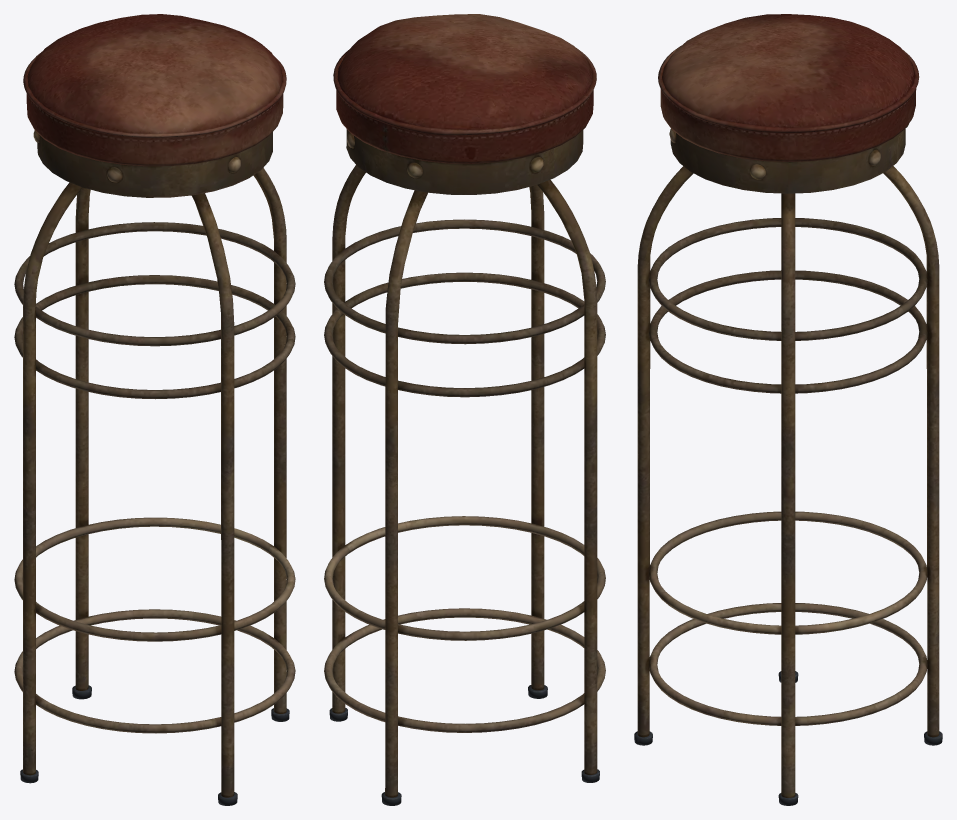
The model's file is metal_stool_01.glb.
The picture shows the model from 3 angles, left to right: view 1: azimuth 30°, elevation 25°; view 2: azimuth 150°, elevation 25°; view 3: azimuth 270°, elevation 25°; orthographic projection.
Parts seen in each view (by area): view 1: metal_stool_01; view 2: metal_stool_01; view 3: metal_stool_01.
Part boxes in pixels (x1,y1,x2,y2): metal_stool_01: [14, 14, 295, 805]; metal_stool_01: [324, 14, 605, 805]; metal_stool_01: [634, 14, 942, 805].
Size of the model in its own units: 0.352 by 0.8823 by 0.3546.
Materials: 1 (1 with a texture image).
